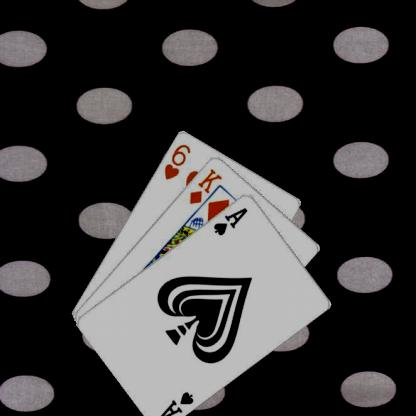6H: (161, 141, 192, 181)
AS: (210, 204, 249, 236), (156, 388, 196, 416)
KD: (186, 166, 224, 206)
